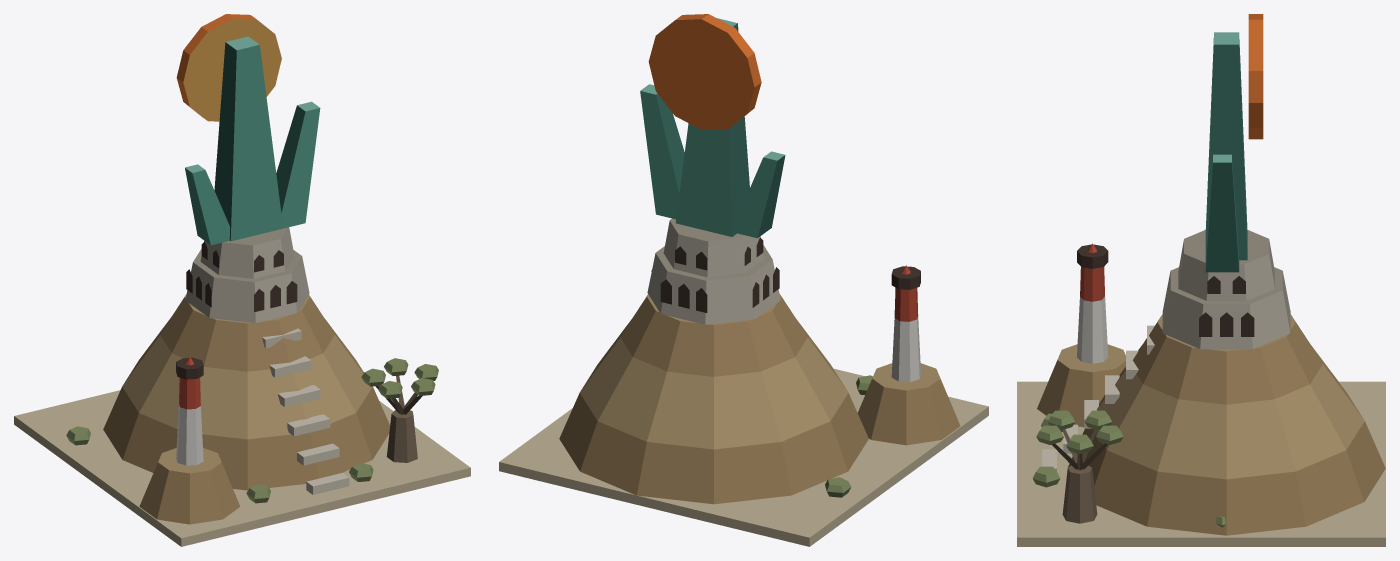
The model's file is renaissance.glb.
The picture shows the model from 3 angles, left to right: view 1: azimuth 30°, elevation 25°; view 2: azimuth 150°, elevation 25°; view 3: azimuth 270°, elevation 25°; orthographic projection. The views are drawn at different scales.
Parts seen in each view (by area): view 1: renaissance; view 2: renaissance; view 3: renaissance.
Boxes of the visible parts, <box> form: renaissance: <box>14,14,470,546</box>; renaissance: <box>499,14,988,546</box>; renaissance: <box>1017,14,1385,546</box>.
Bounding box in the file's own units: 1.76 × 2.4 × 1.76.
